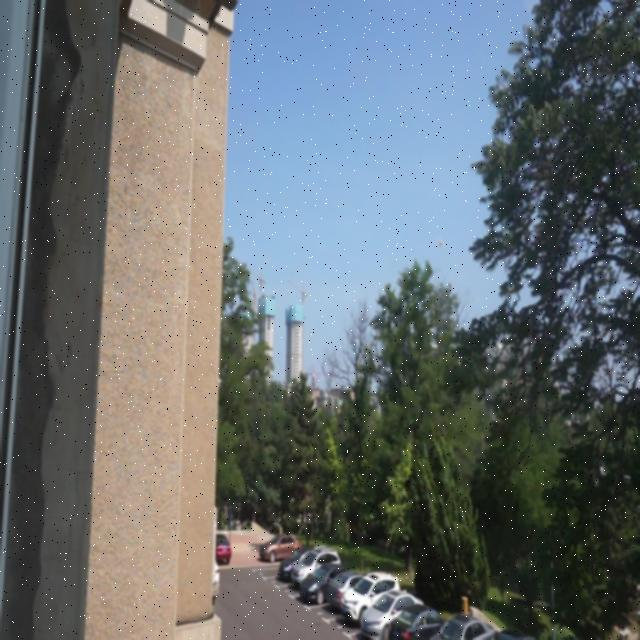UAV: (436, 237, 447, 248)
